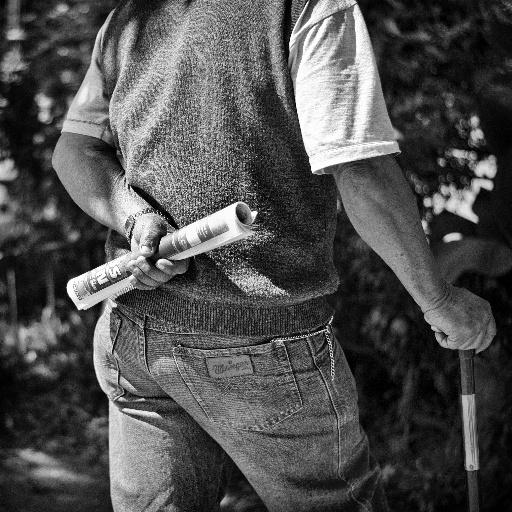hand: (409, 247, 501, 373), (126, 211, 191, 290)
